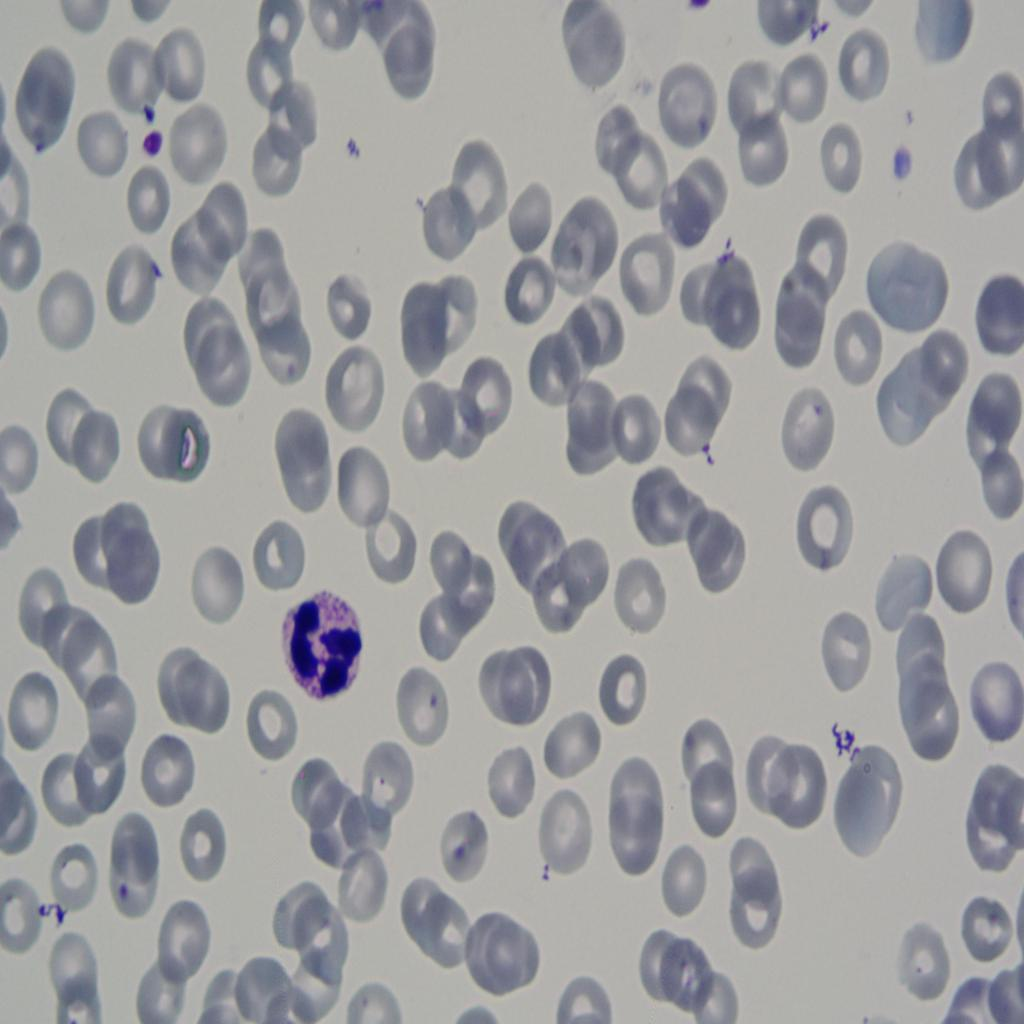Neutrofil: (270, 582, 371, 718)
Platelet: (880, 132, 918, 183), (129, 129, 173, 169), (140, 90, 163, 128)
